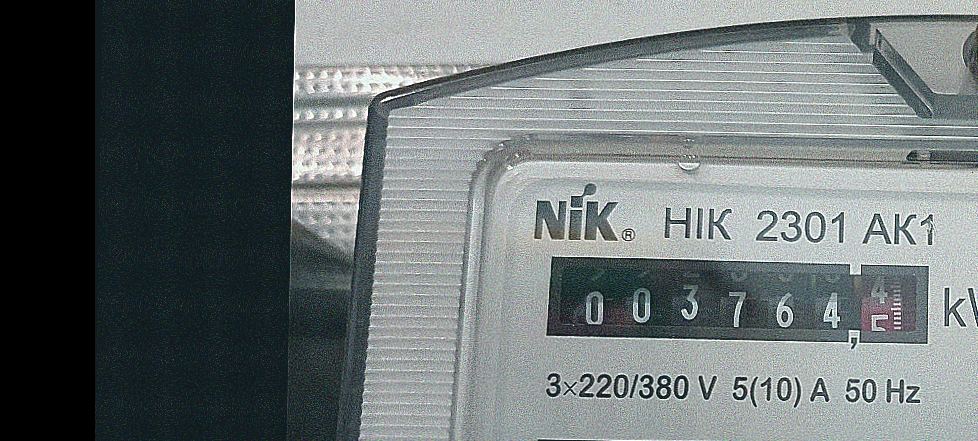0: (582, 287, 607, 325), (630, 284, 653, 324)
3: (678, 281, 702, 321)
4: (823, 289, 843, 329), (869, 272, 891, 304)
5: (869, 310, 891, 332)
6: (775, 289, 796, 328)
7: (726, 286, 750, 328)
screen: (533, 239, 945, 357)
